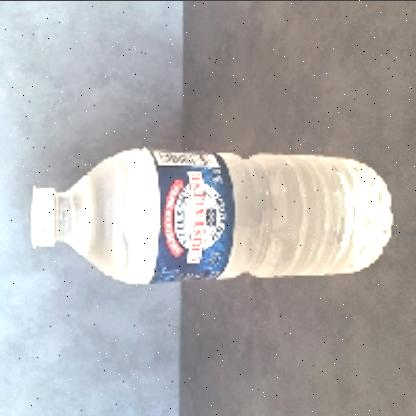Plastic Bottle: (29, 148, 393, 284)
